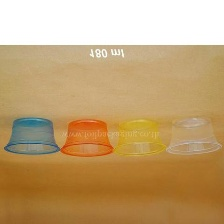glass: (111, 116, 171, 159), (164, 114, 223, 156), (1, 116, 62, 156), (57, 116, 115, 157)
